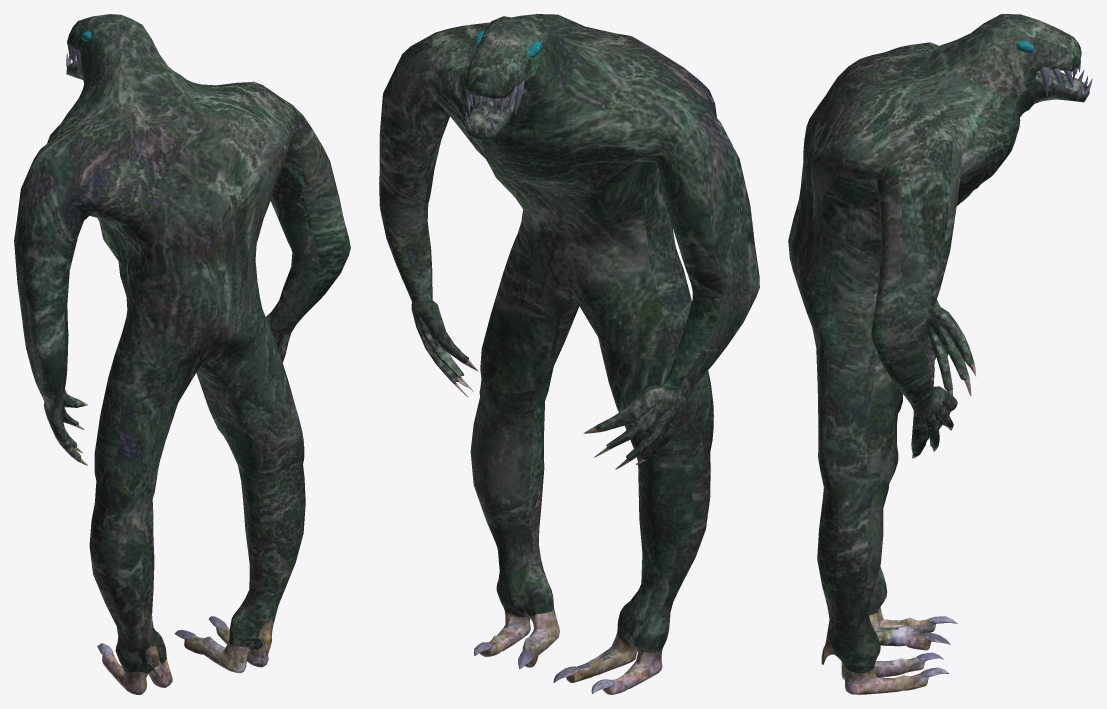
Rendered from Andar.0000.obj.
3 renders of one model, left to right at view 1: azimuth 30°, elevation 25°; view 2: azimuth 150°, elevation 25°; view 3: azimuth 270°, elevation 25°, orthographic. The views are drawn at different scales.
Parts seen in each view (by area): view 1: polySurface28; view 2: polySurface28; view 3: polySurface28.
Boxes of the visible parts, x1,y1,x2,y2 form: polySurface28: (14, 14, 350, 694); polySurface28: (379, 14, 759, 694); polySurface28: (788, 14, 1092, 694).
Size of the model in its own units: 1.26 by 2.32 by 0.9989.
4 materials, 4 textured.
